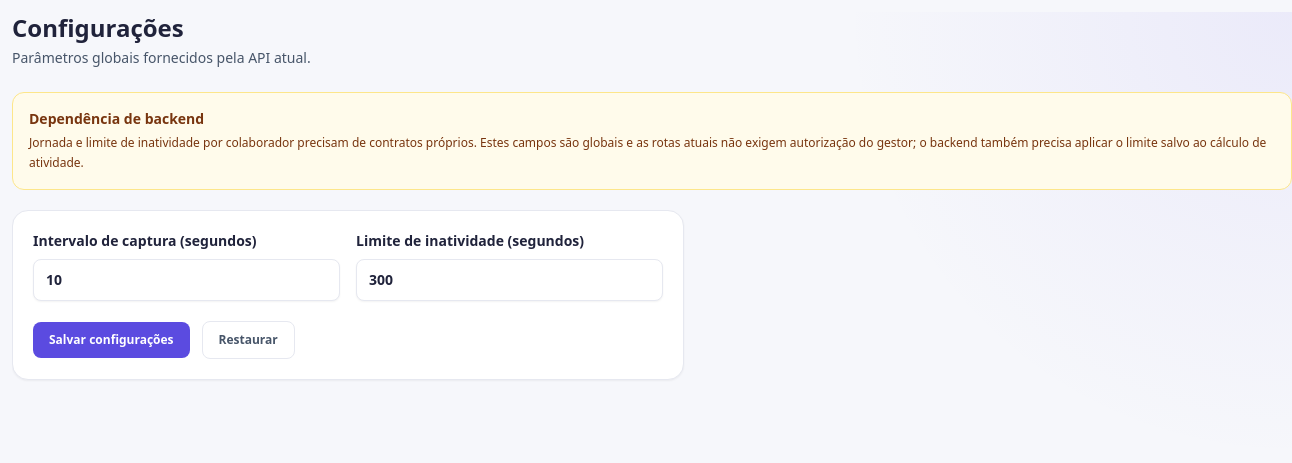
Test: SettingsPage › limpa erro obsoleto ao editar e permite repetir o salvamento
Replace the text in the number field labelled "Intervalo de captura (segundos)" with "20": (186,280) [33,259,340,301]
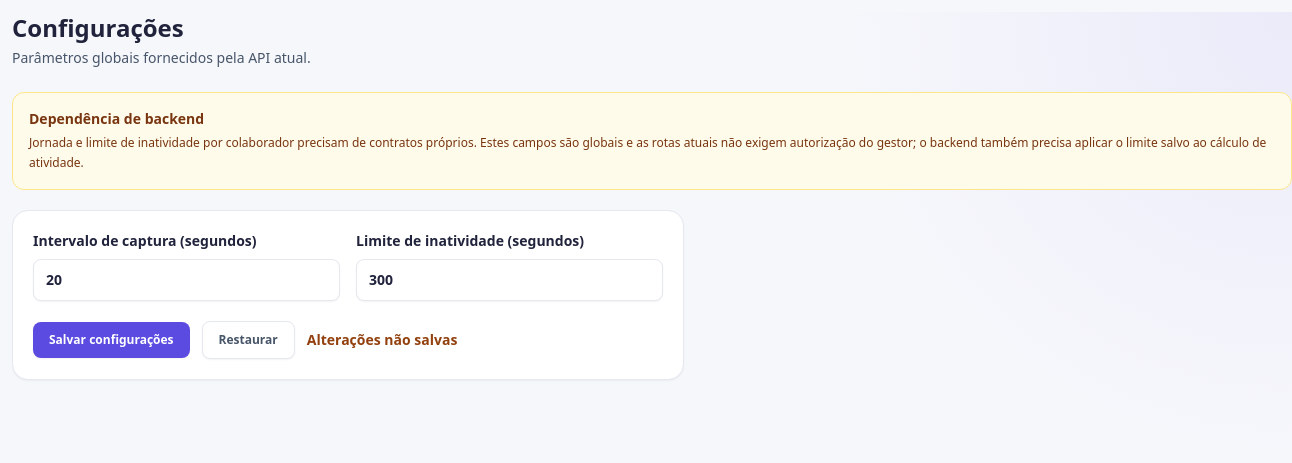
Click the button "Salvar configurações": (111,340) [33,322,190,358]
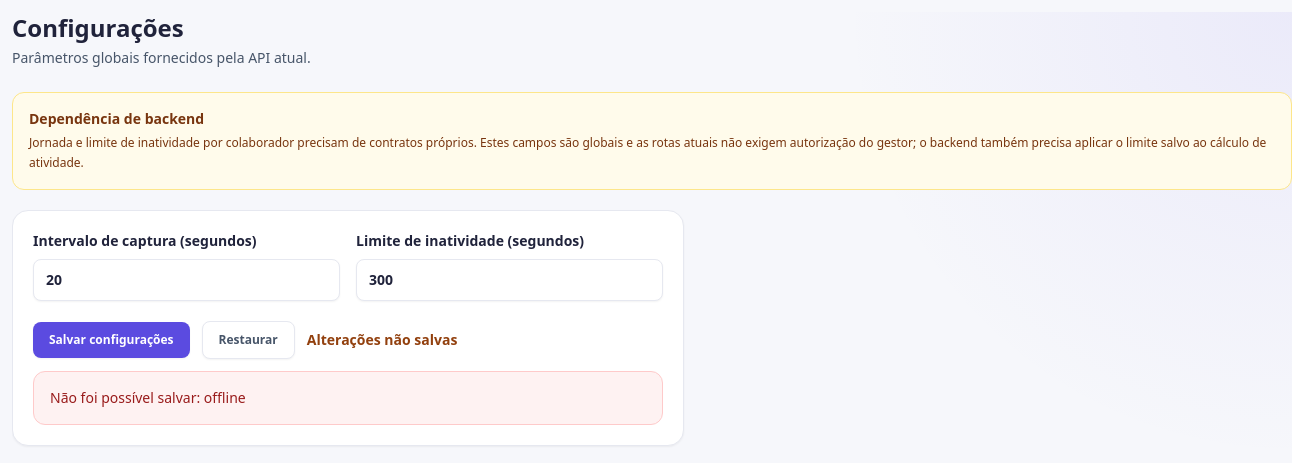
expect the message "Não foi possível salvar: offline" is shown: met, box [33,371,663,425]
Replace the text in the number field labelled "Intervalo de captura (segundos)" with "30": (186,280) [33,259,340,301]
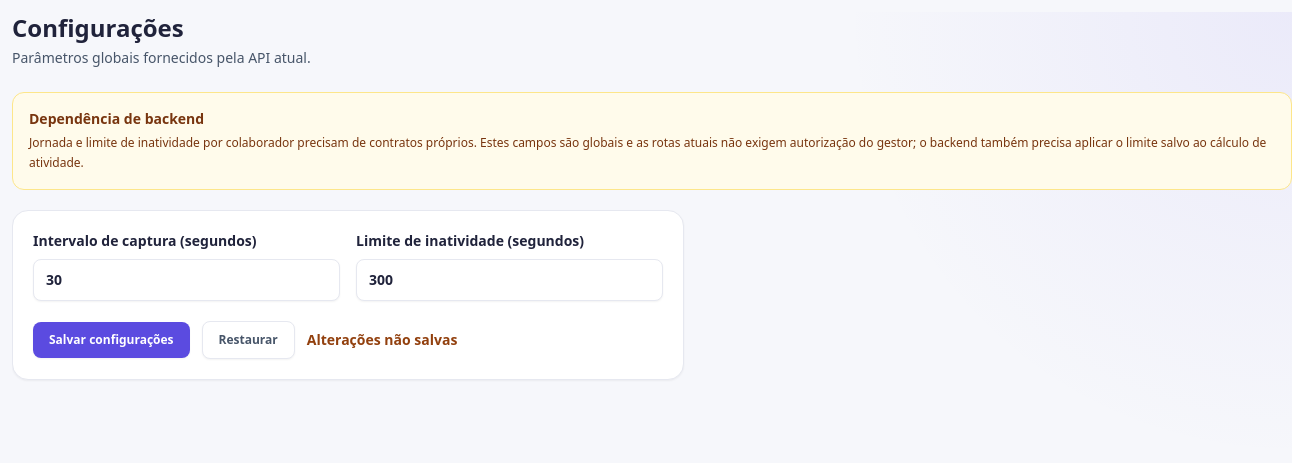
expect the message "Não foi possível salvar: offline" is gone: met
Click the button "Salvar configurações": (111,340) [33,322,190,358]
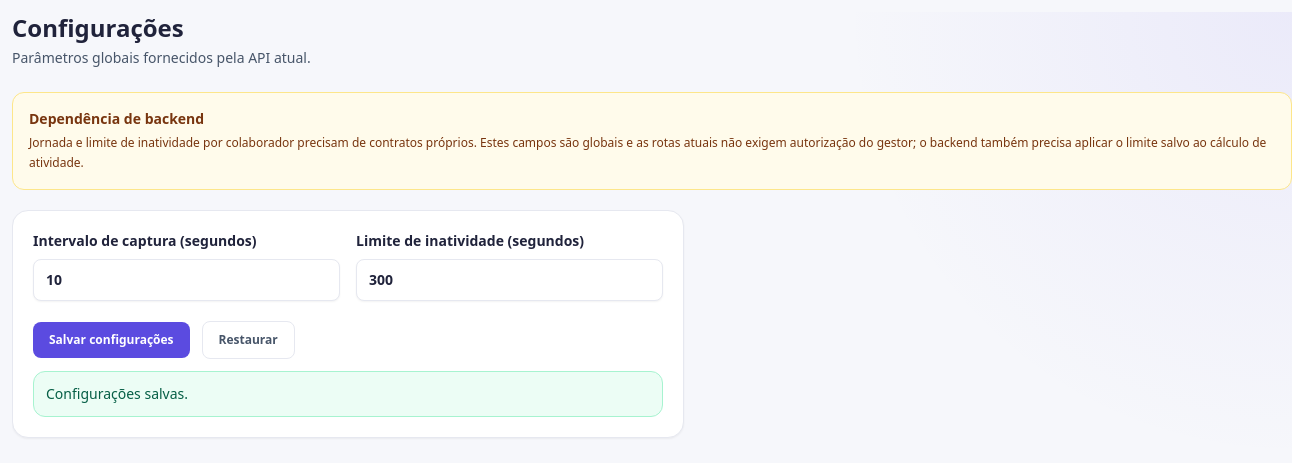
expect the text "Configurações salvas." is shown: met, box [46,384,188,404]
